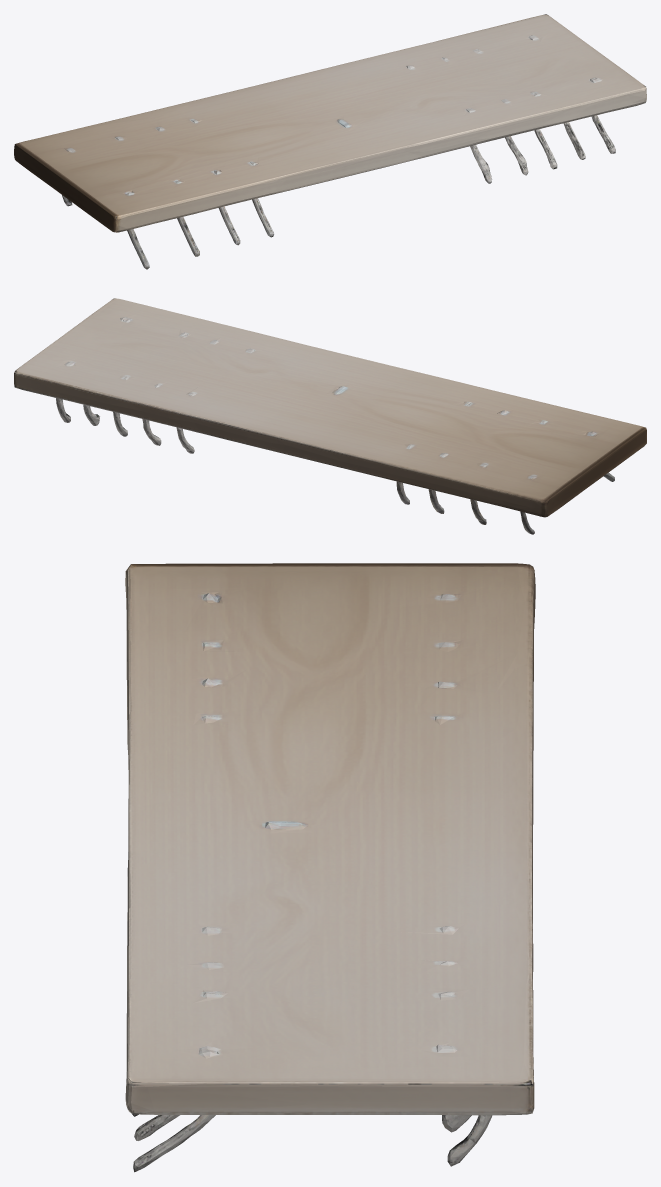
Rendered from pegboard_visual_0.obj.
3 renders of one model, top to bottom at view 1: azimuth 30°, elevation 25°; view 2: azimuth 150°, elevation 25°; view 3: azimuth 270°, elevation 25°, orthographic. The views are drawn at different scales.
Bounding box in the file's own units: 1 × 0.1146 × 0.3335.
1 material, 1 textured.
